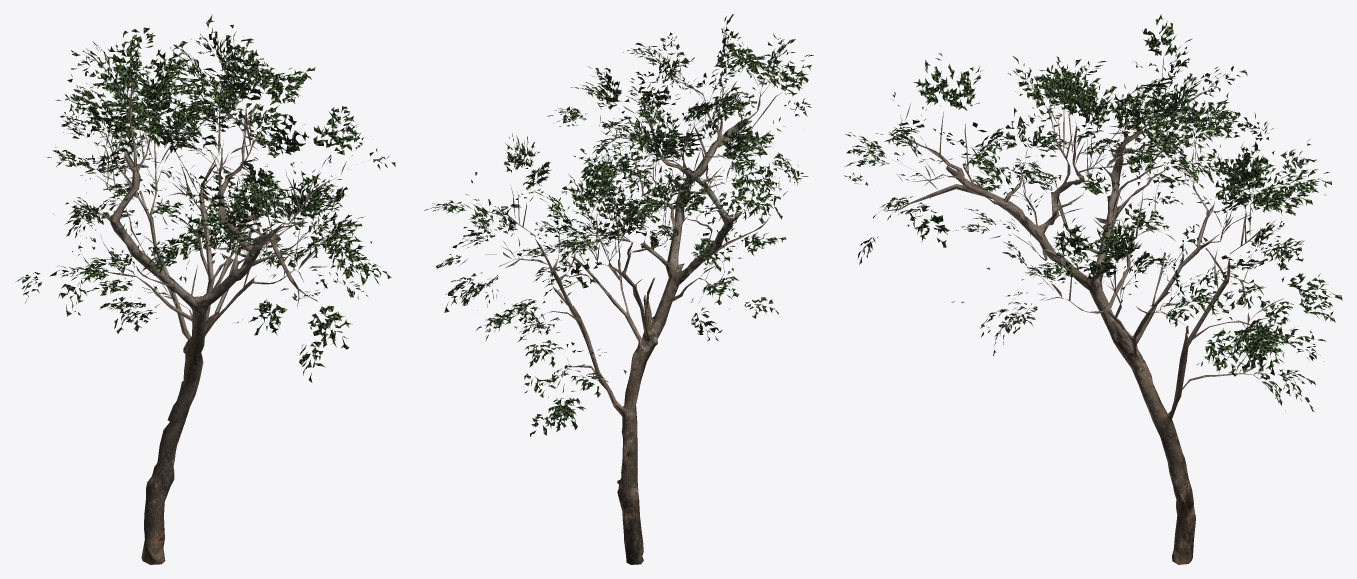
3 renders of one model, left to right at view 1: azimuth 30°, elevation 25°; view 2: azimuth 150°, elevation 25°; view 3: azimuth 270°, elevation 25°, orthographic. The views are drawn at different scales.
Visible parts, largest first — view 1: BezierCurve.002; view 2: BezierCurve.002; view 3: BezierCurve.002.
Part boxes in pixels (x1=…): BezierCurve.002: x1=16, y1=14, x2=395, y2=564; BezierCurve.002: x1=424, y1=14, x2=813, y2=564; BezierCurve.002: x1=844, y1=14, x2=1342, y2=564.
Bounding box in the file's own units: 2.86 × 4.54 × 4.05.
3 materials, 3 textured.
